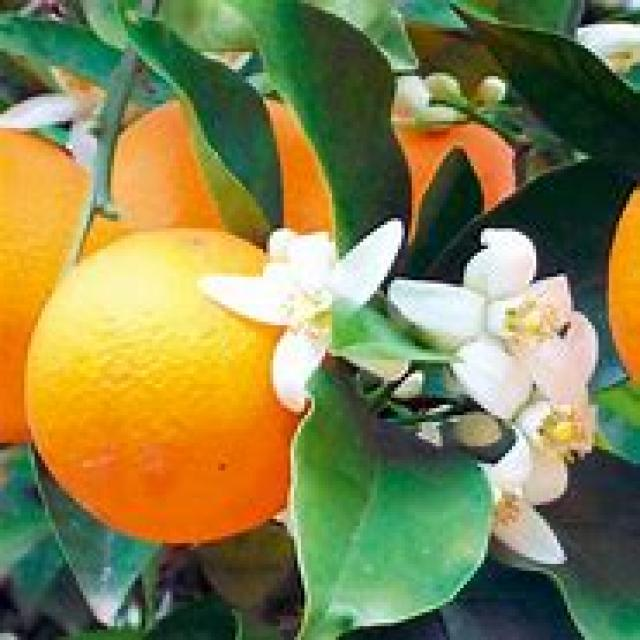orange: (23, 227, 276, 540)
